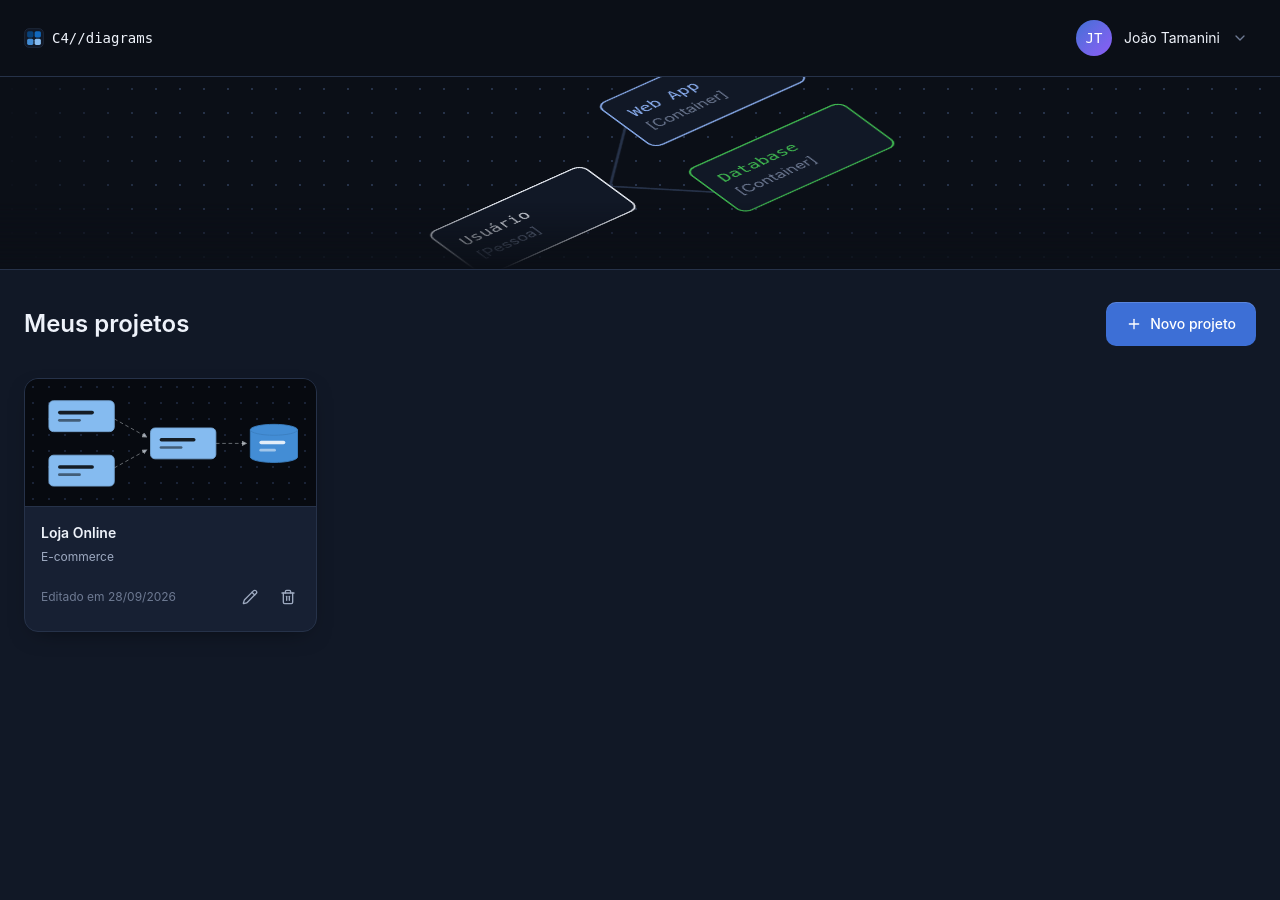
it: Dashboard › exclusão (RF06) › deve pedir a confirmação também pelo "Excluir projeto" do modal, fechando o modal
Click the button named "Editar projeto Loja Online" at (250, 596), box [232, 578, 268, 614]
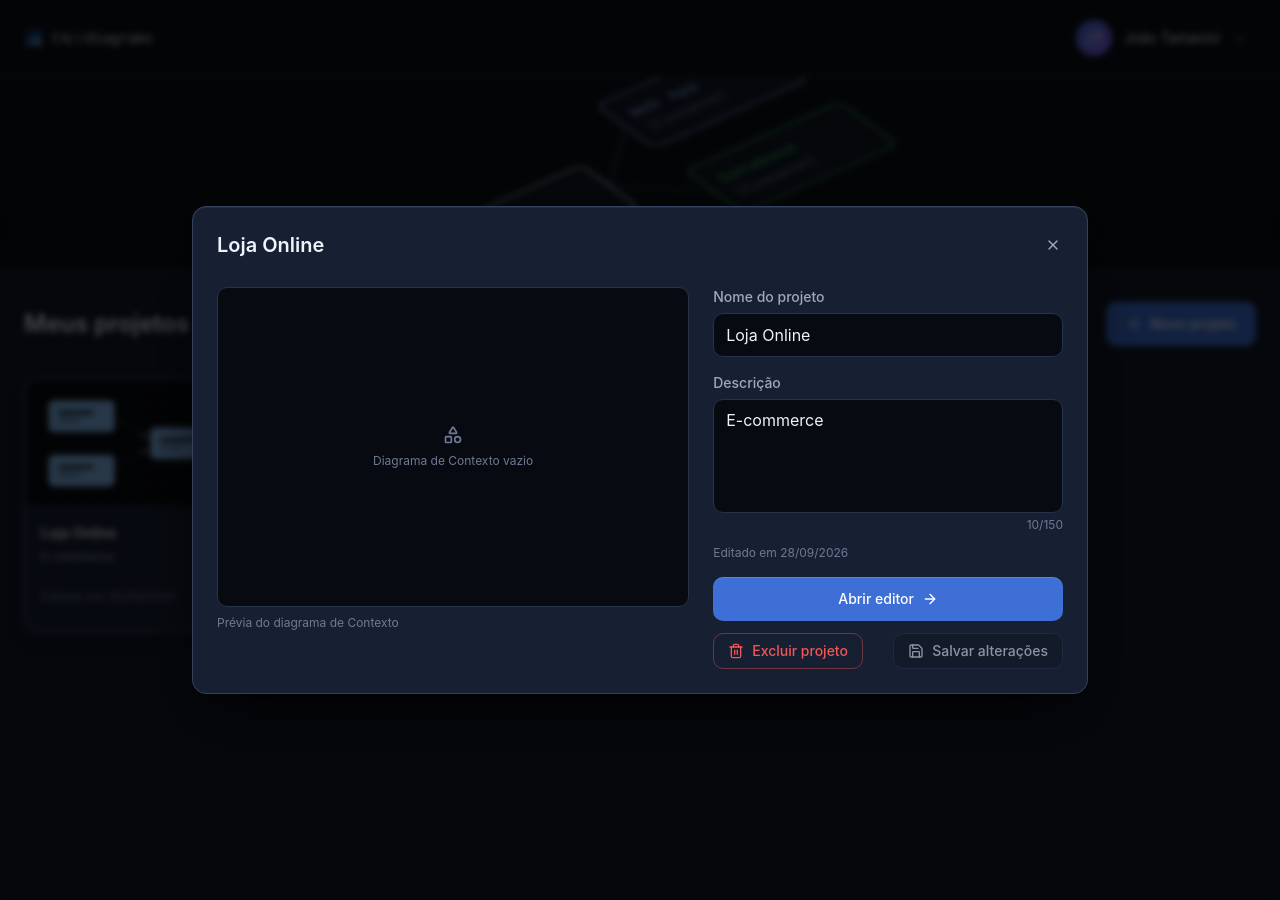
Click the button "Excluir projeto" at (788, 651), box [713, 633, 863, 669]
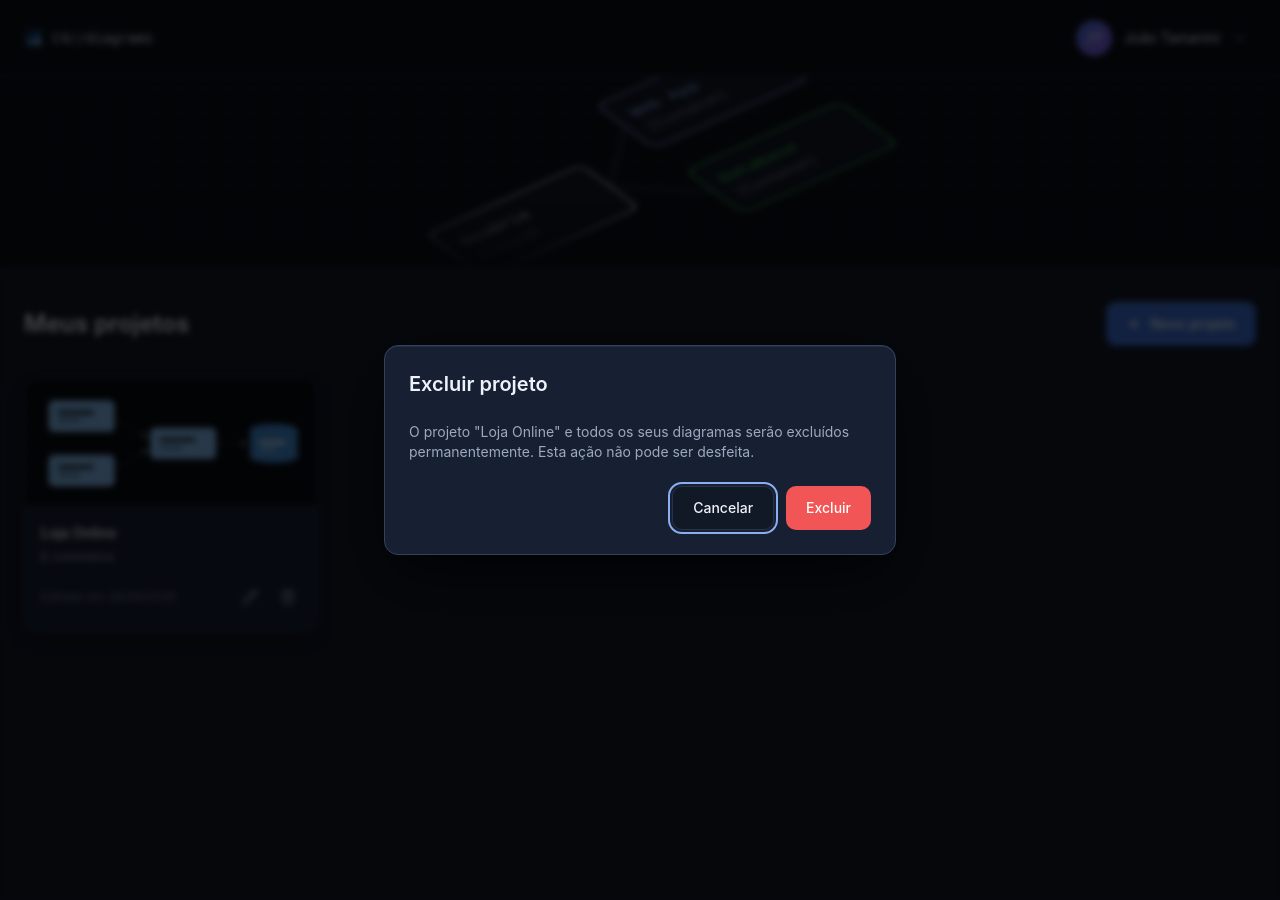
expect the dialog "Excluir projeto" is shown: met, box [384, 345, 896, 555]
